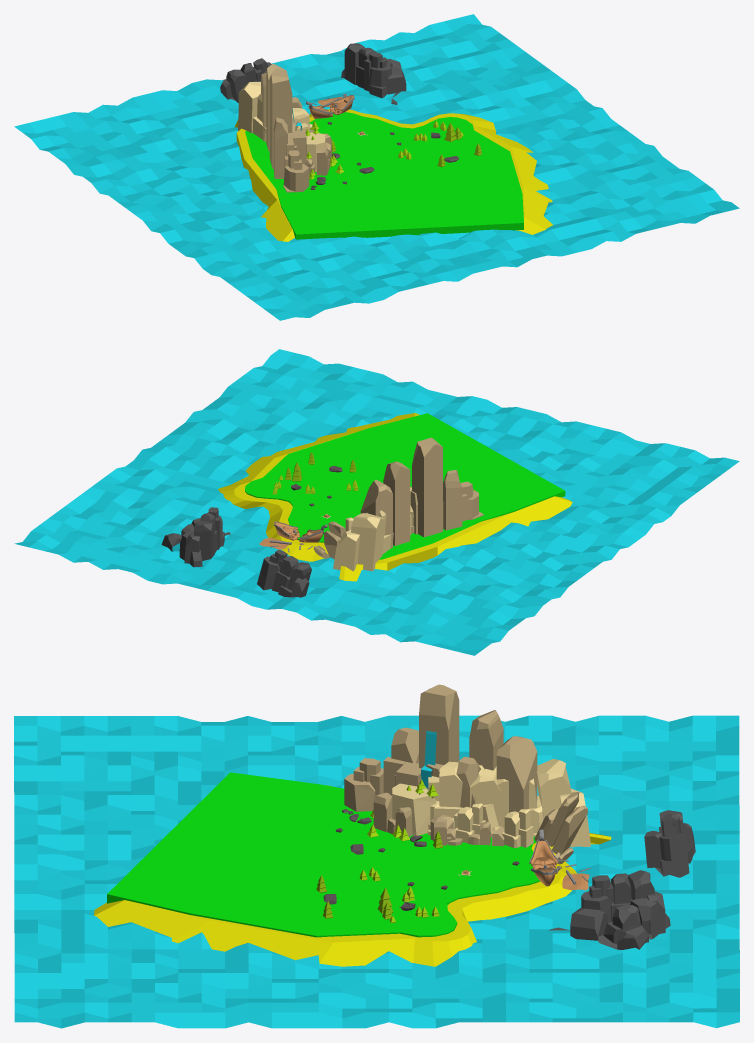
The model's file is Stage.fbx.
3 renders of one model, top to bottom at view 1: azimuth 30°, elevation 25°; view 2: azimuth 150°, elevation 25°; view 3: azimuth 270°, elevation 25°, orthographic. The views are drawn at different scales.
Parts seen in each view (by area): view 1: Stage; view 2: Stage; view 3: Stage.
Part boxes in pixels (x1,y1,x2,y2): Stage: [14, 14, 739, 320]; Stage: [14, 349, 739, 655]; Stage: [14, 684, 739, 1028].
Size of the model in its own units: 3222 by 709 by 3222.
